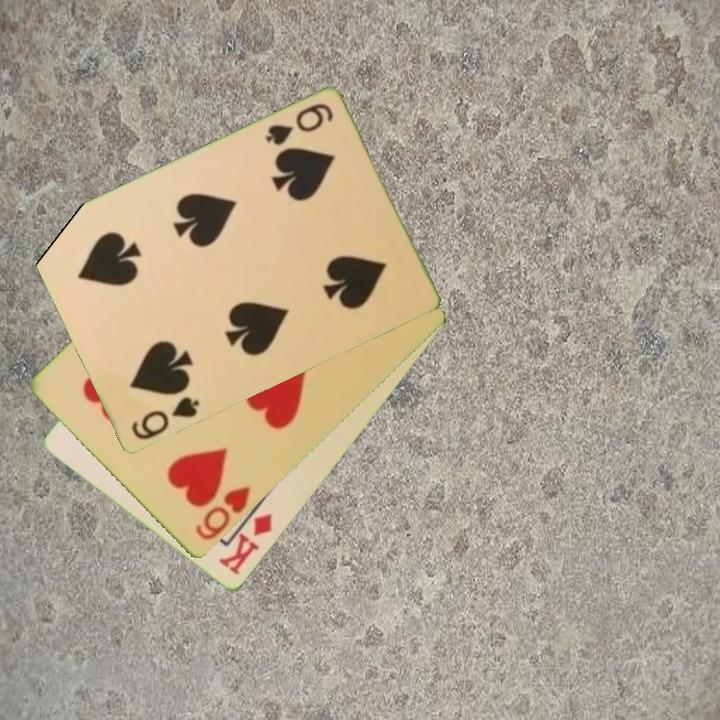6h: (192, 483, 253, 544)
6s: (127, 394, 202, 443), (261, 100, 336, 149)
Kd: (215, 510, 276, 579)
